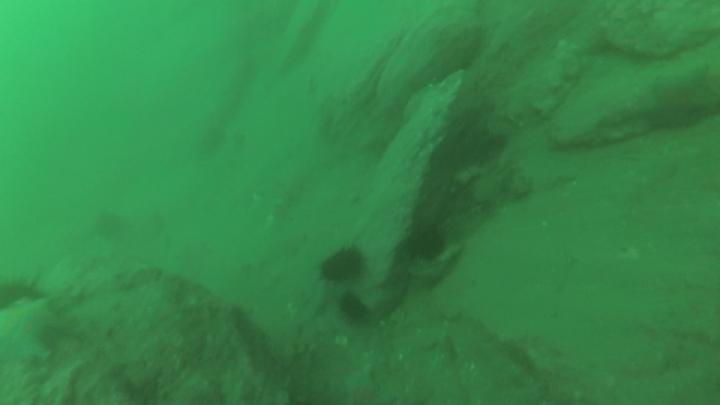echinus: (318, 240, 368, 287), (405, 225, 452, 265), (331, 289, 371, 324)
